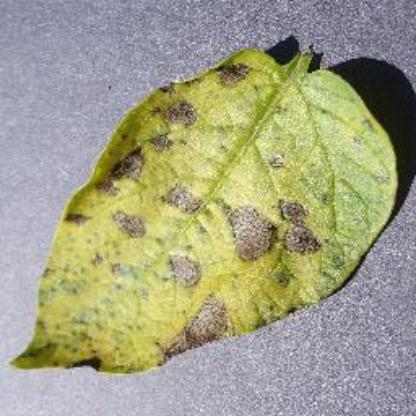Early-Blight: (10, 37, 416, 381)
